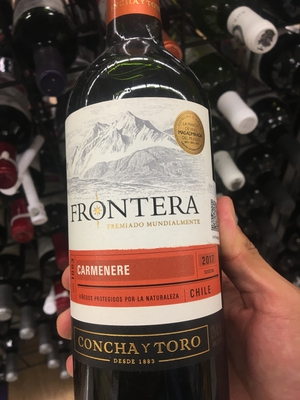frontera carmenere: (35, 23, 248, 400)
